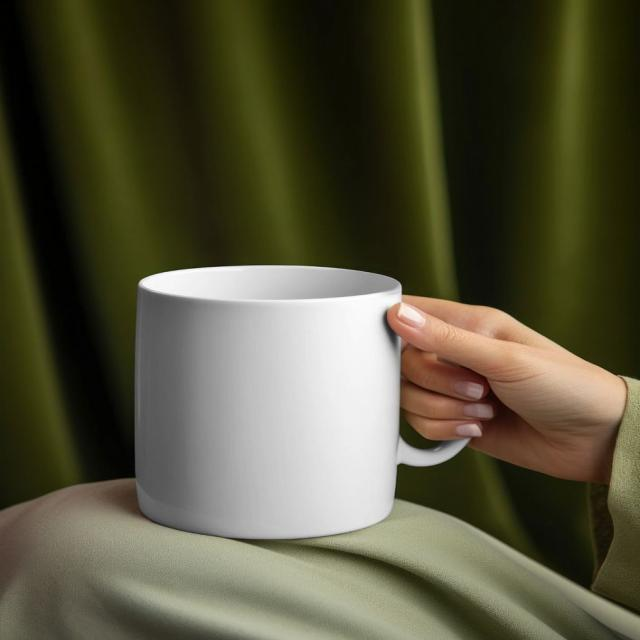glass cup: (138, 267, 477, 538)
